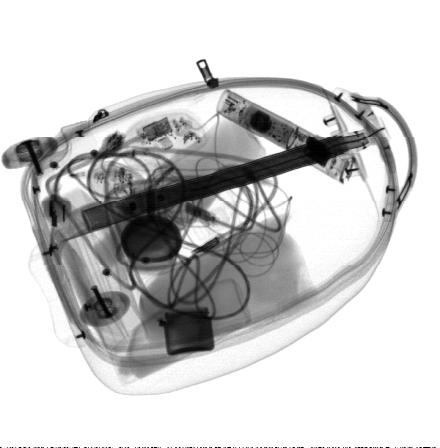Baton: (216, 89, 355, 184)
